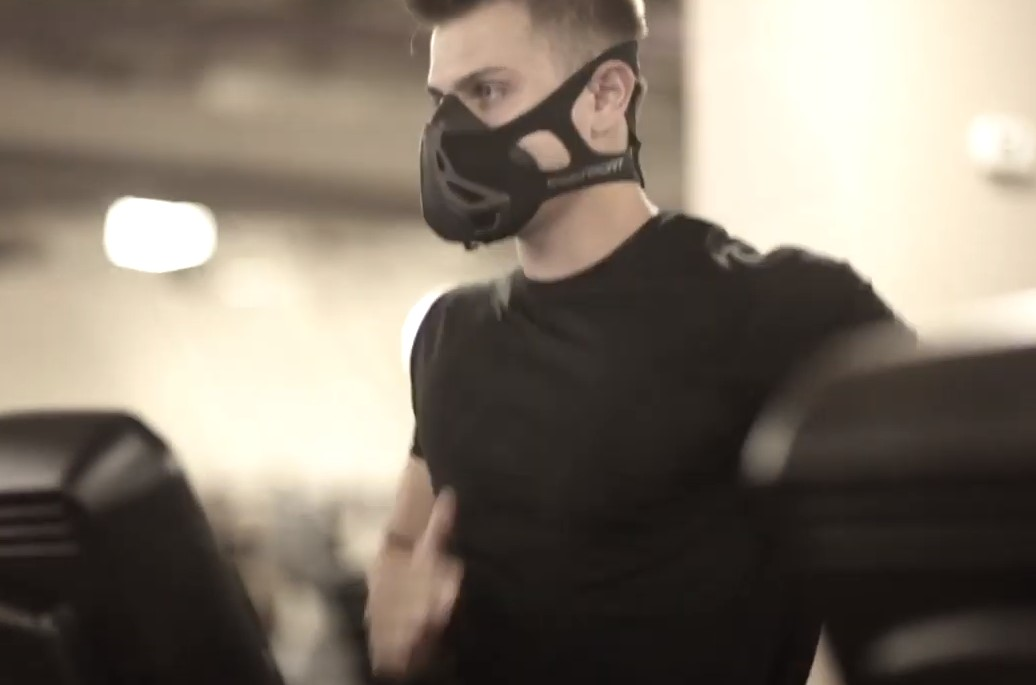face_with_mask: (406, 10, 648, 249)
